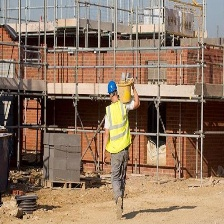helmet: (106, 80, 119, 99)
person: (101, 82, 135, 214)
vest: (104, 101, 134, 156)
